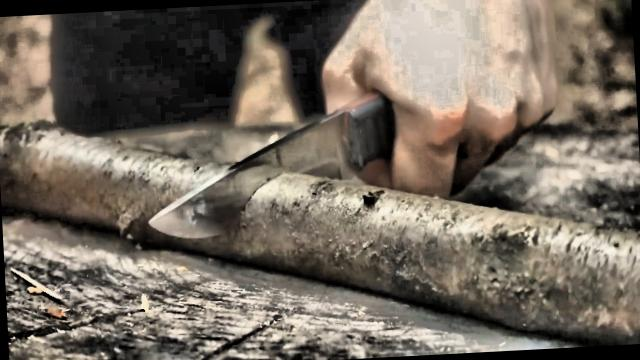knife: (132, 47, 569, 250)
